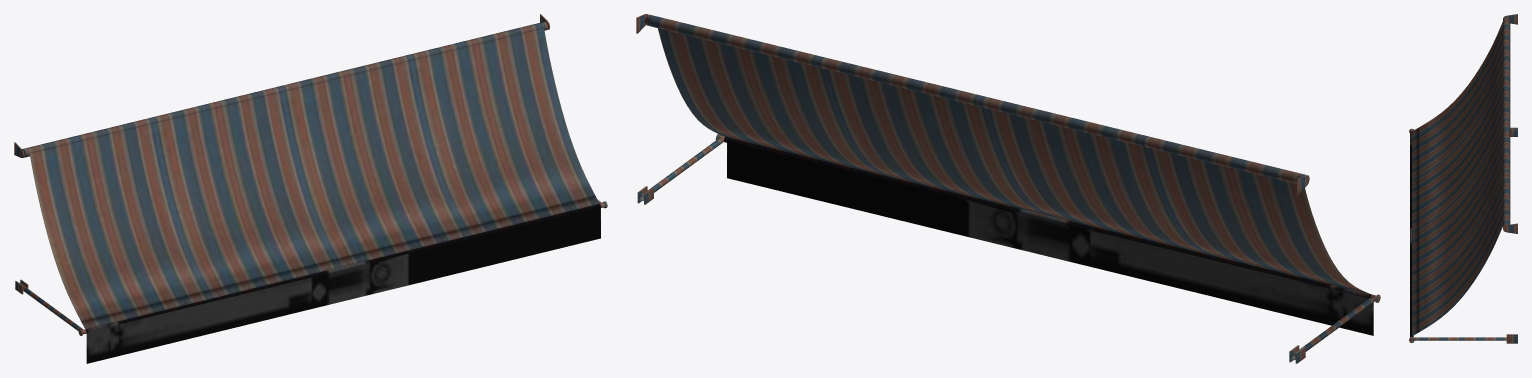
Rendered from Rue_Auvent.obj.
The picture shows the model from 3 angles, left to right: view 1: azimuth 30°, elevation 25°; view 2: azimuth 150°, elevation 25°; view 3: azimuth 270°, elevation 25°; orthographic projection. The views are drawn at different scales.
Visible parts, largest first — view 1: Rue_Auvent; view 2: Rue_Auvent; view 3: Rue_Auvent.
Boxes of the visible parts, x1,y1,x2,y2 form: Rue_Auvent: (14, 14, 607, 363); Rue_Auvent: (636, 14, 1380, 363); Rue_Auvent: (1409, 14, 1517, 343).
Bounding box in the file's own units: 2.37 × 0.751 × 0.5204.
Materials: 1 (1 with a texture image).
